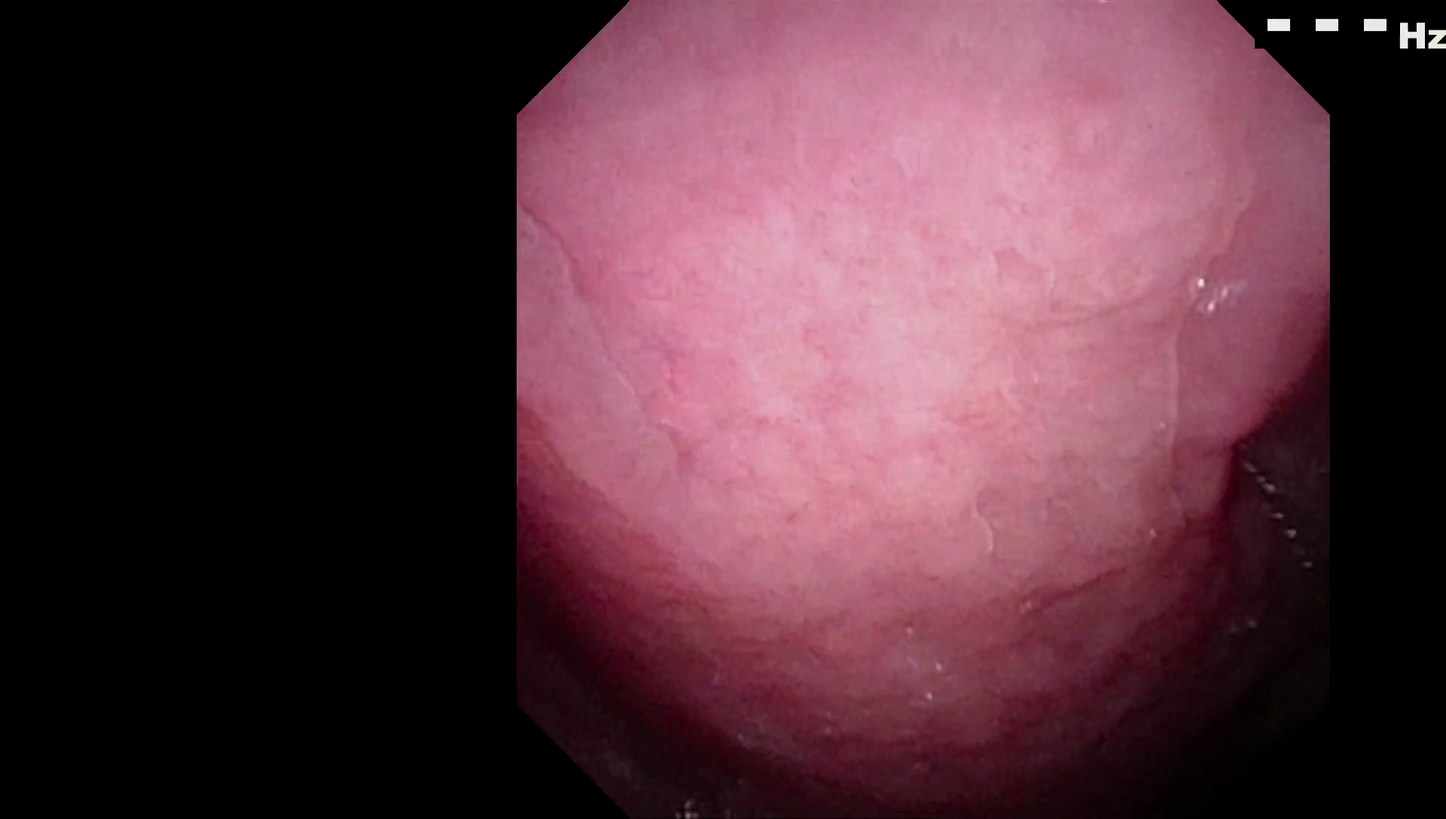close_wall: (553, 59, 1262, 628)
next: (1056, 567, 1293, 808), (536, 578, 788, 797), (1177, 358, 1330, 709)
